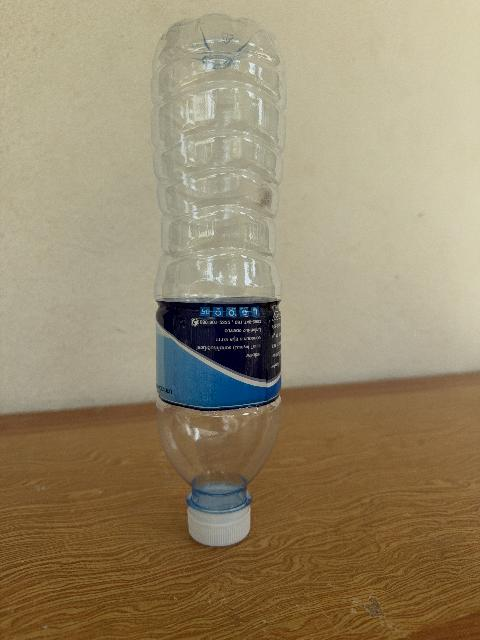bottle: (151, 15, 284, 545)
